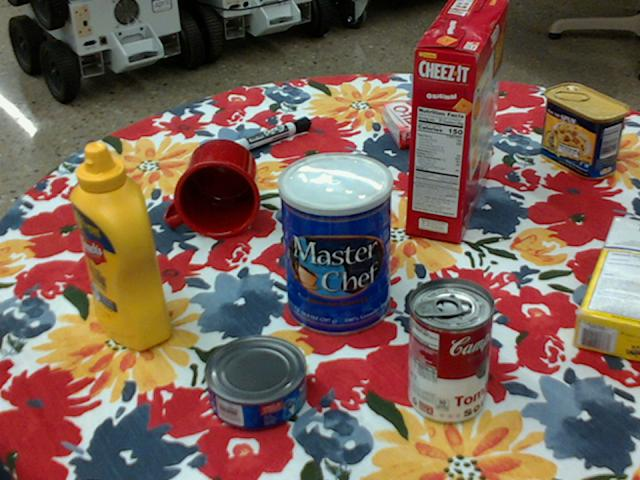cracker_box: (409, 0, 509, 243)
gelatin_box: (381, 96, 454, 149)
large_marker: (229, 115, 310, 154)
master_chef_can: (277, 152, 392, 337)
mug: (164, 139, 261, 240)
mustard_bottle: (69, 142, 172, 350)
potted_meat_can: (541, 82, 630, 178)
sugar_box: (574, 216, 639, 361)
tomato_soup_can: (407, 276, 494, 424)
tuna_fish_can: (200, 335, 303, 430)
